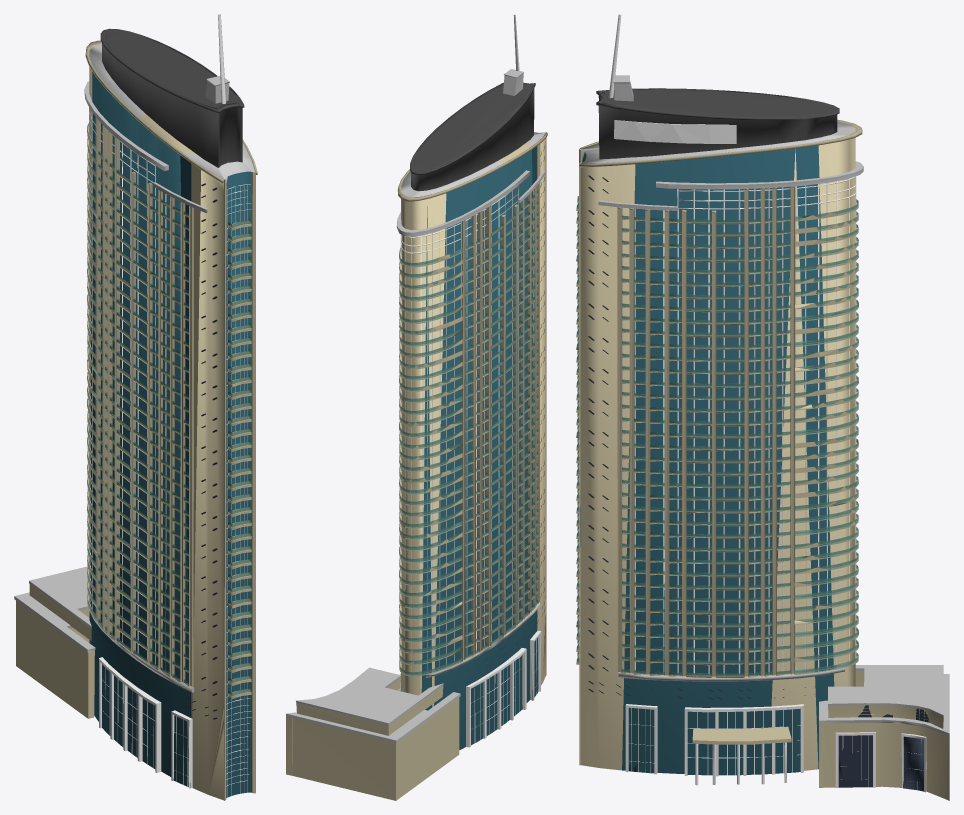
File: curved_res_tower.glb
3 renders of one model, left to right at view 1: azimuth 30°, elevation 25°; view 2: azimuth 150°, elevation 25°; view 3: azimuth 270°, elevation 25°, orthographic. The views are drawn at different scales.
Parts seen in each view (by area): view 1: curved_res_tower; view 2: curved_res_tower; view 3: curved_res_tower.
Part boxes in pixels (x1,y1,x2,y2): curved_res_tower: (14,14,257,800); curved_res_tower: (286,14,547,800); curved_res_tower: (576,14,949,800).
Bounding box in the file's own units: 39.37 × 220 × 100.
